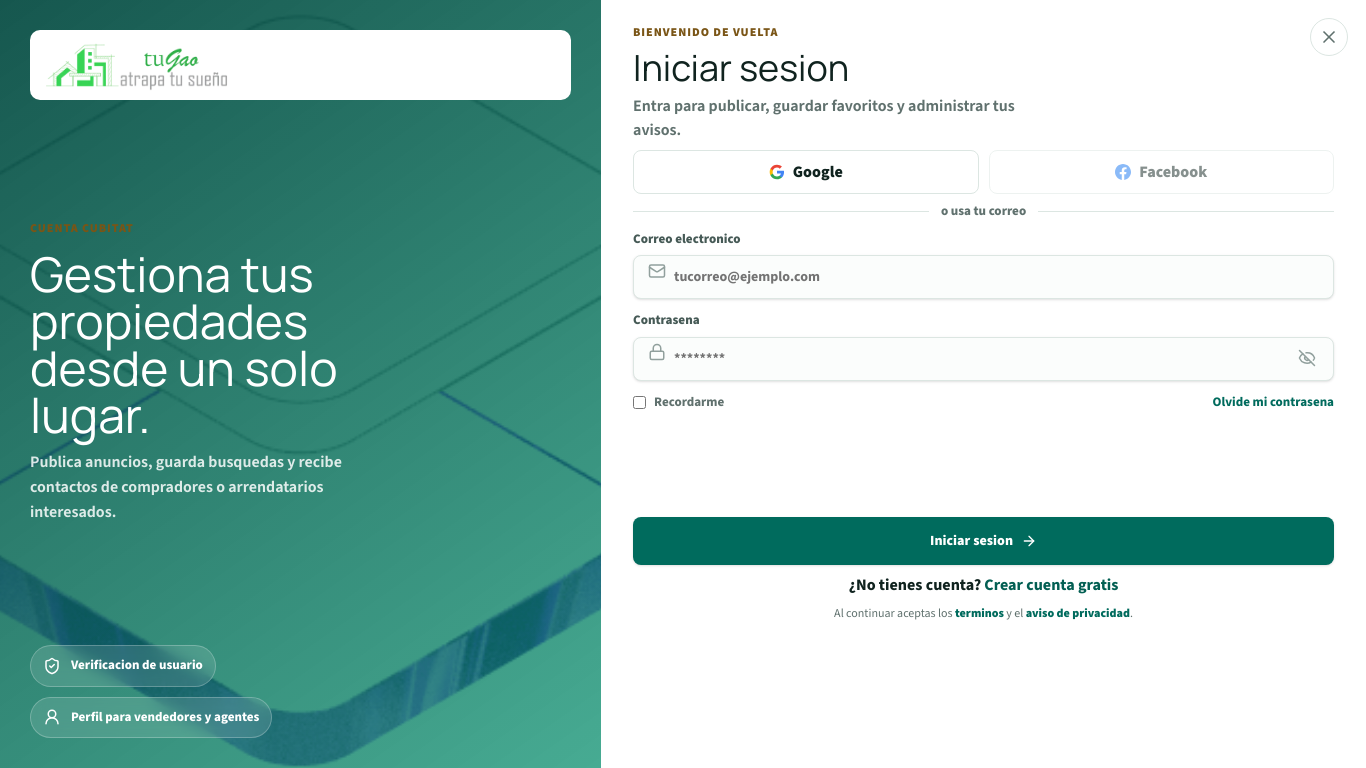
capas de autenticacion › oculta el detalle técnico si Google no tiene secreto OAuth configurado
Click the button "Google".
click(806, 172)  # box [633, 150, 978, 194]
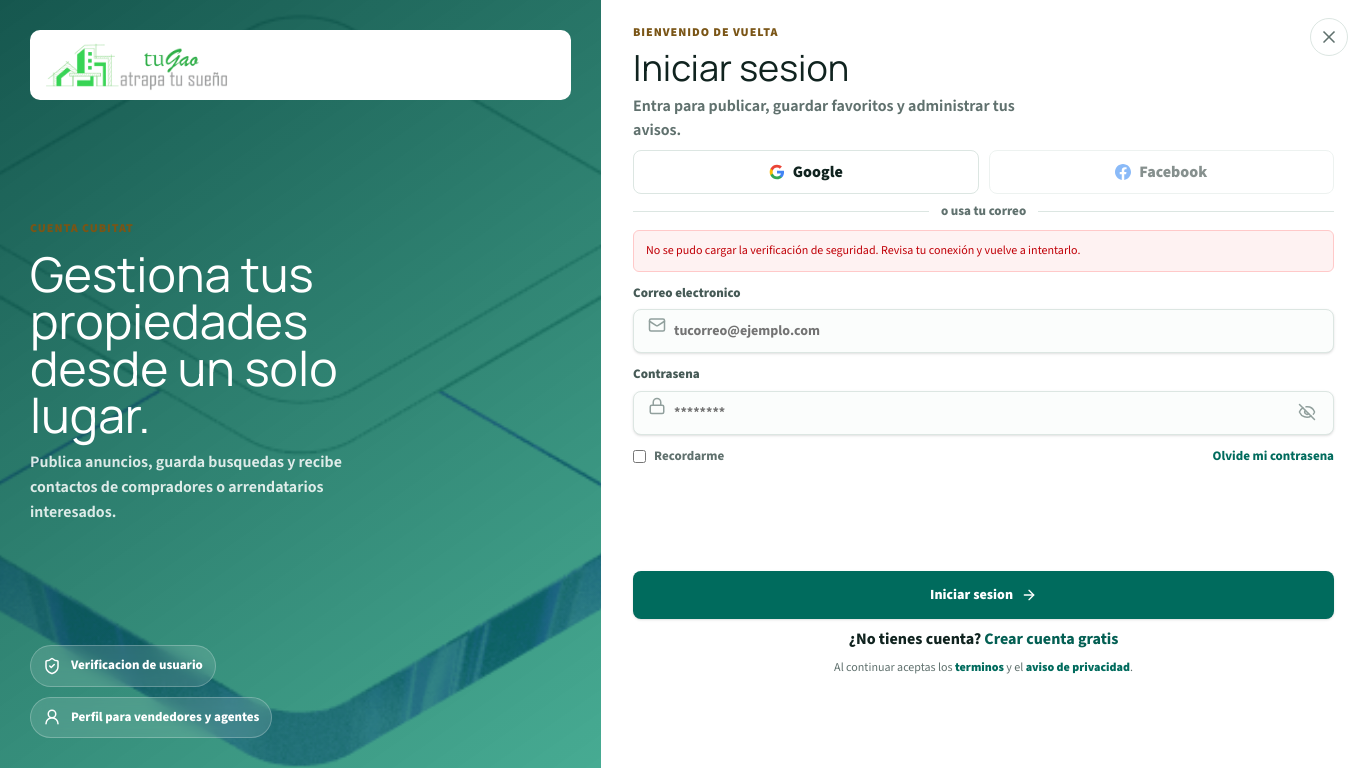
Check: the text "El inicio con Google no está disponible temporalmente" is shown, box [633, 230, 1334, 272]
